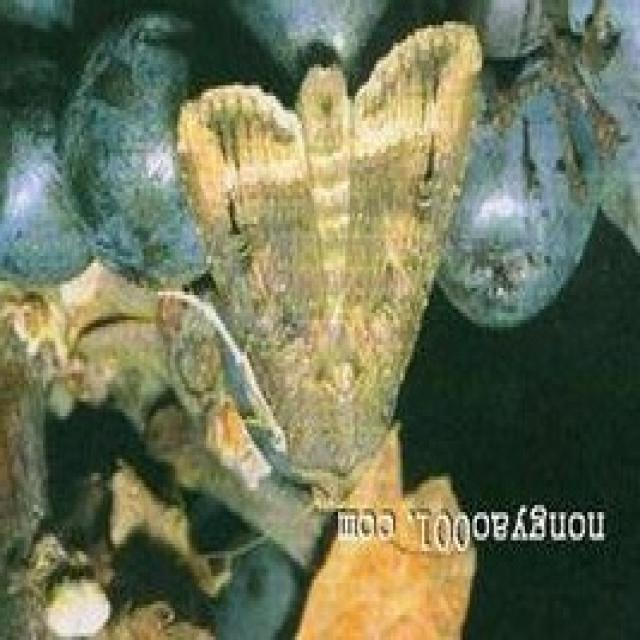black cutworm: (151, 17, 484, 504)
